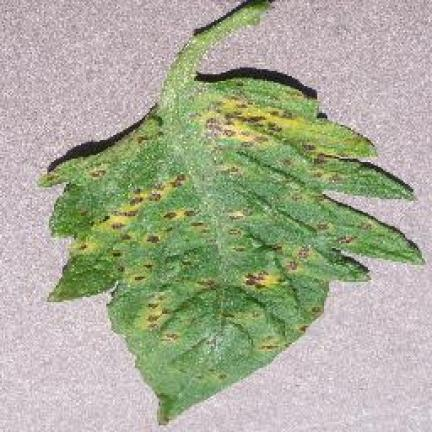leaf: (40, 0, 420, 422)
